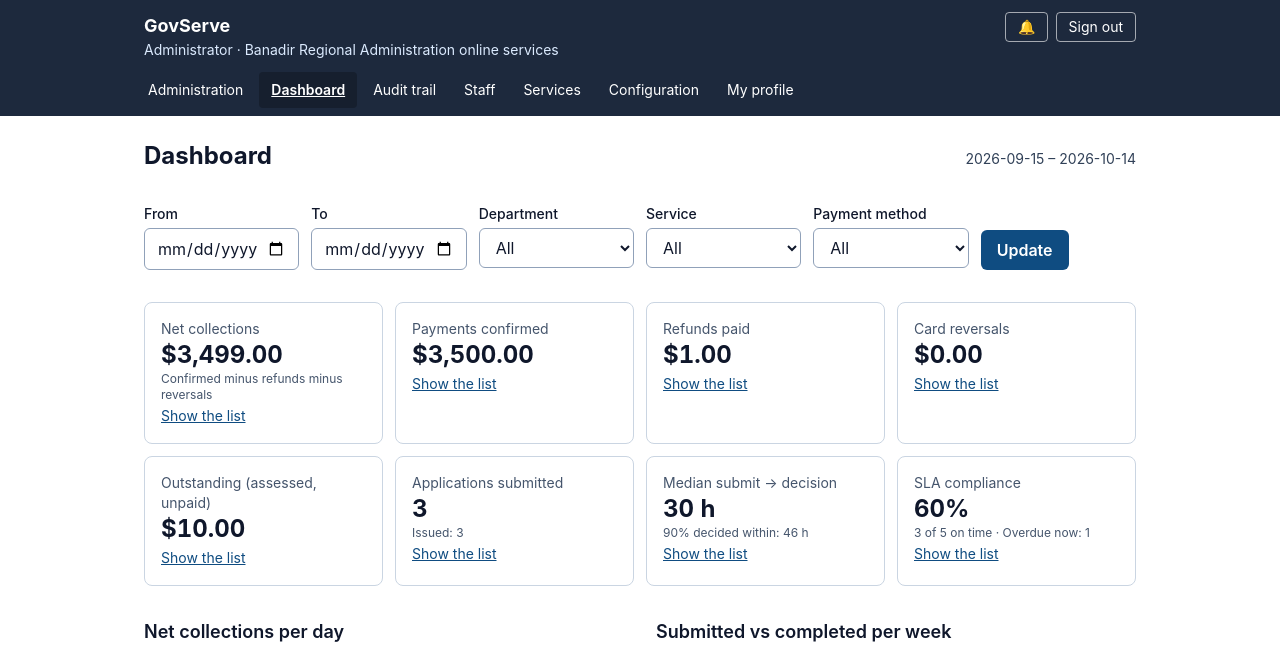
Test: management dashboard › should let an admin pick a department
Select "Police / CID" in the dropdown labelled "Department". click: (556, 248)
box: [479,228,634,268]
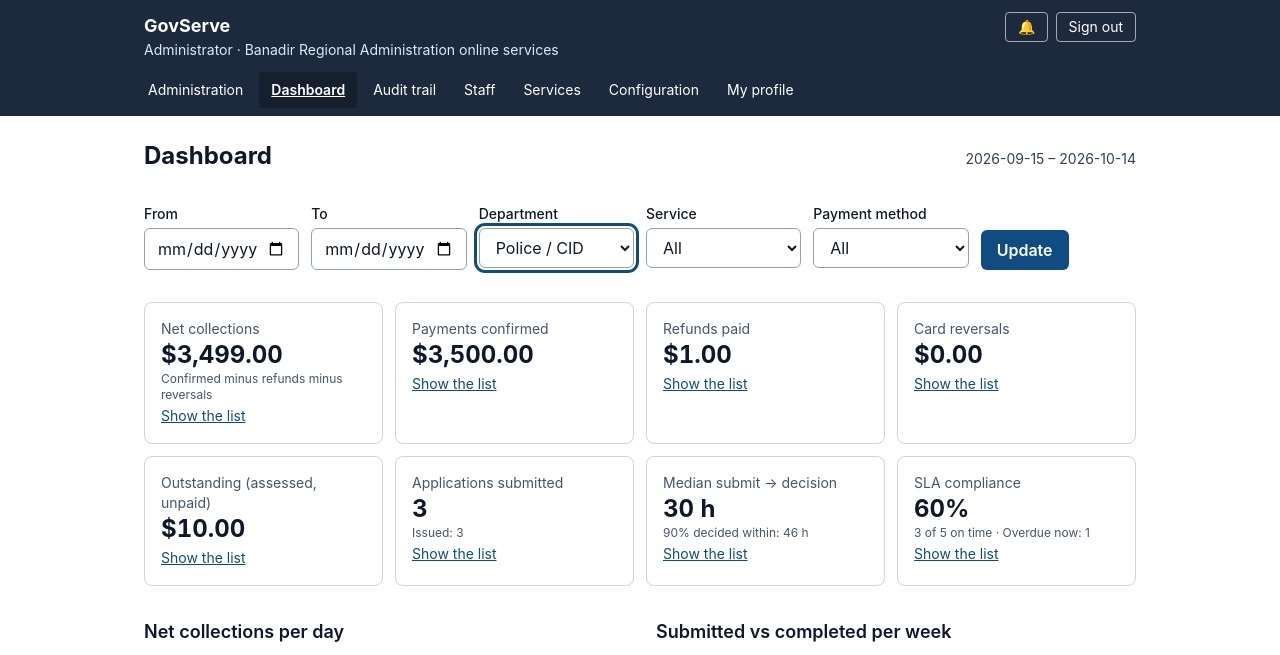
Click the button "Update". click: (1025, 250)
box: [981,230,1069,270]
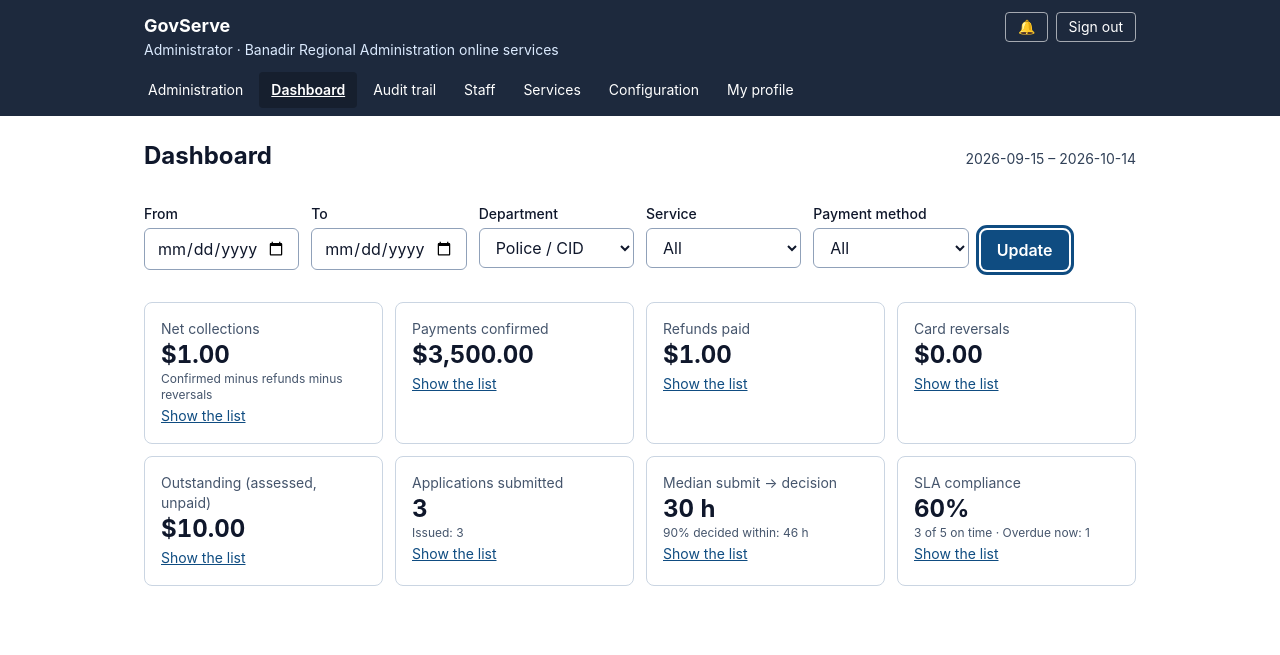
Check: the element with test id "kpi-net" shows "$1.00", box [161,340,230,369]
